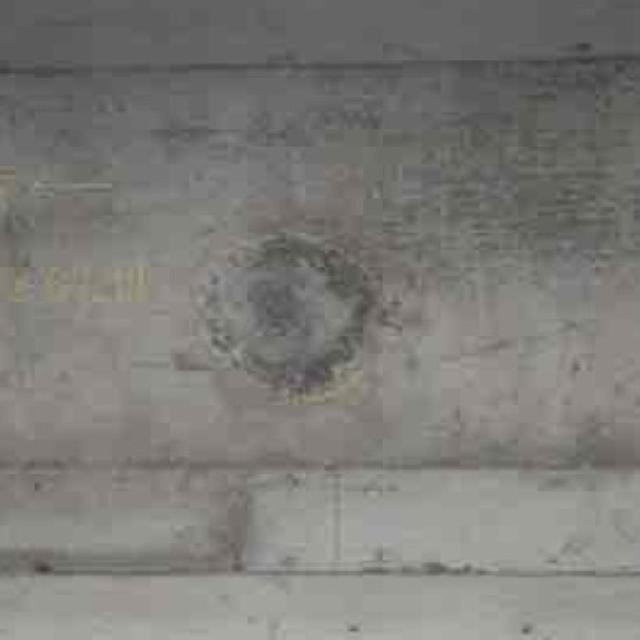freelime: (197, 219, 412, 410)
